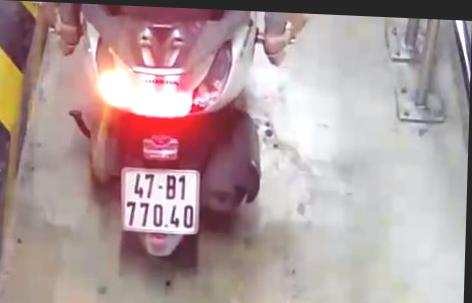License_Plate: (109, 159, 210, 242)
